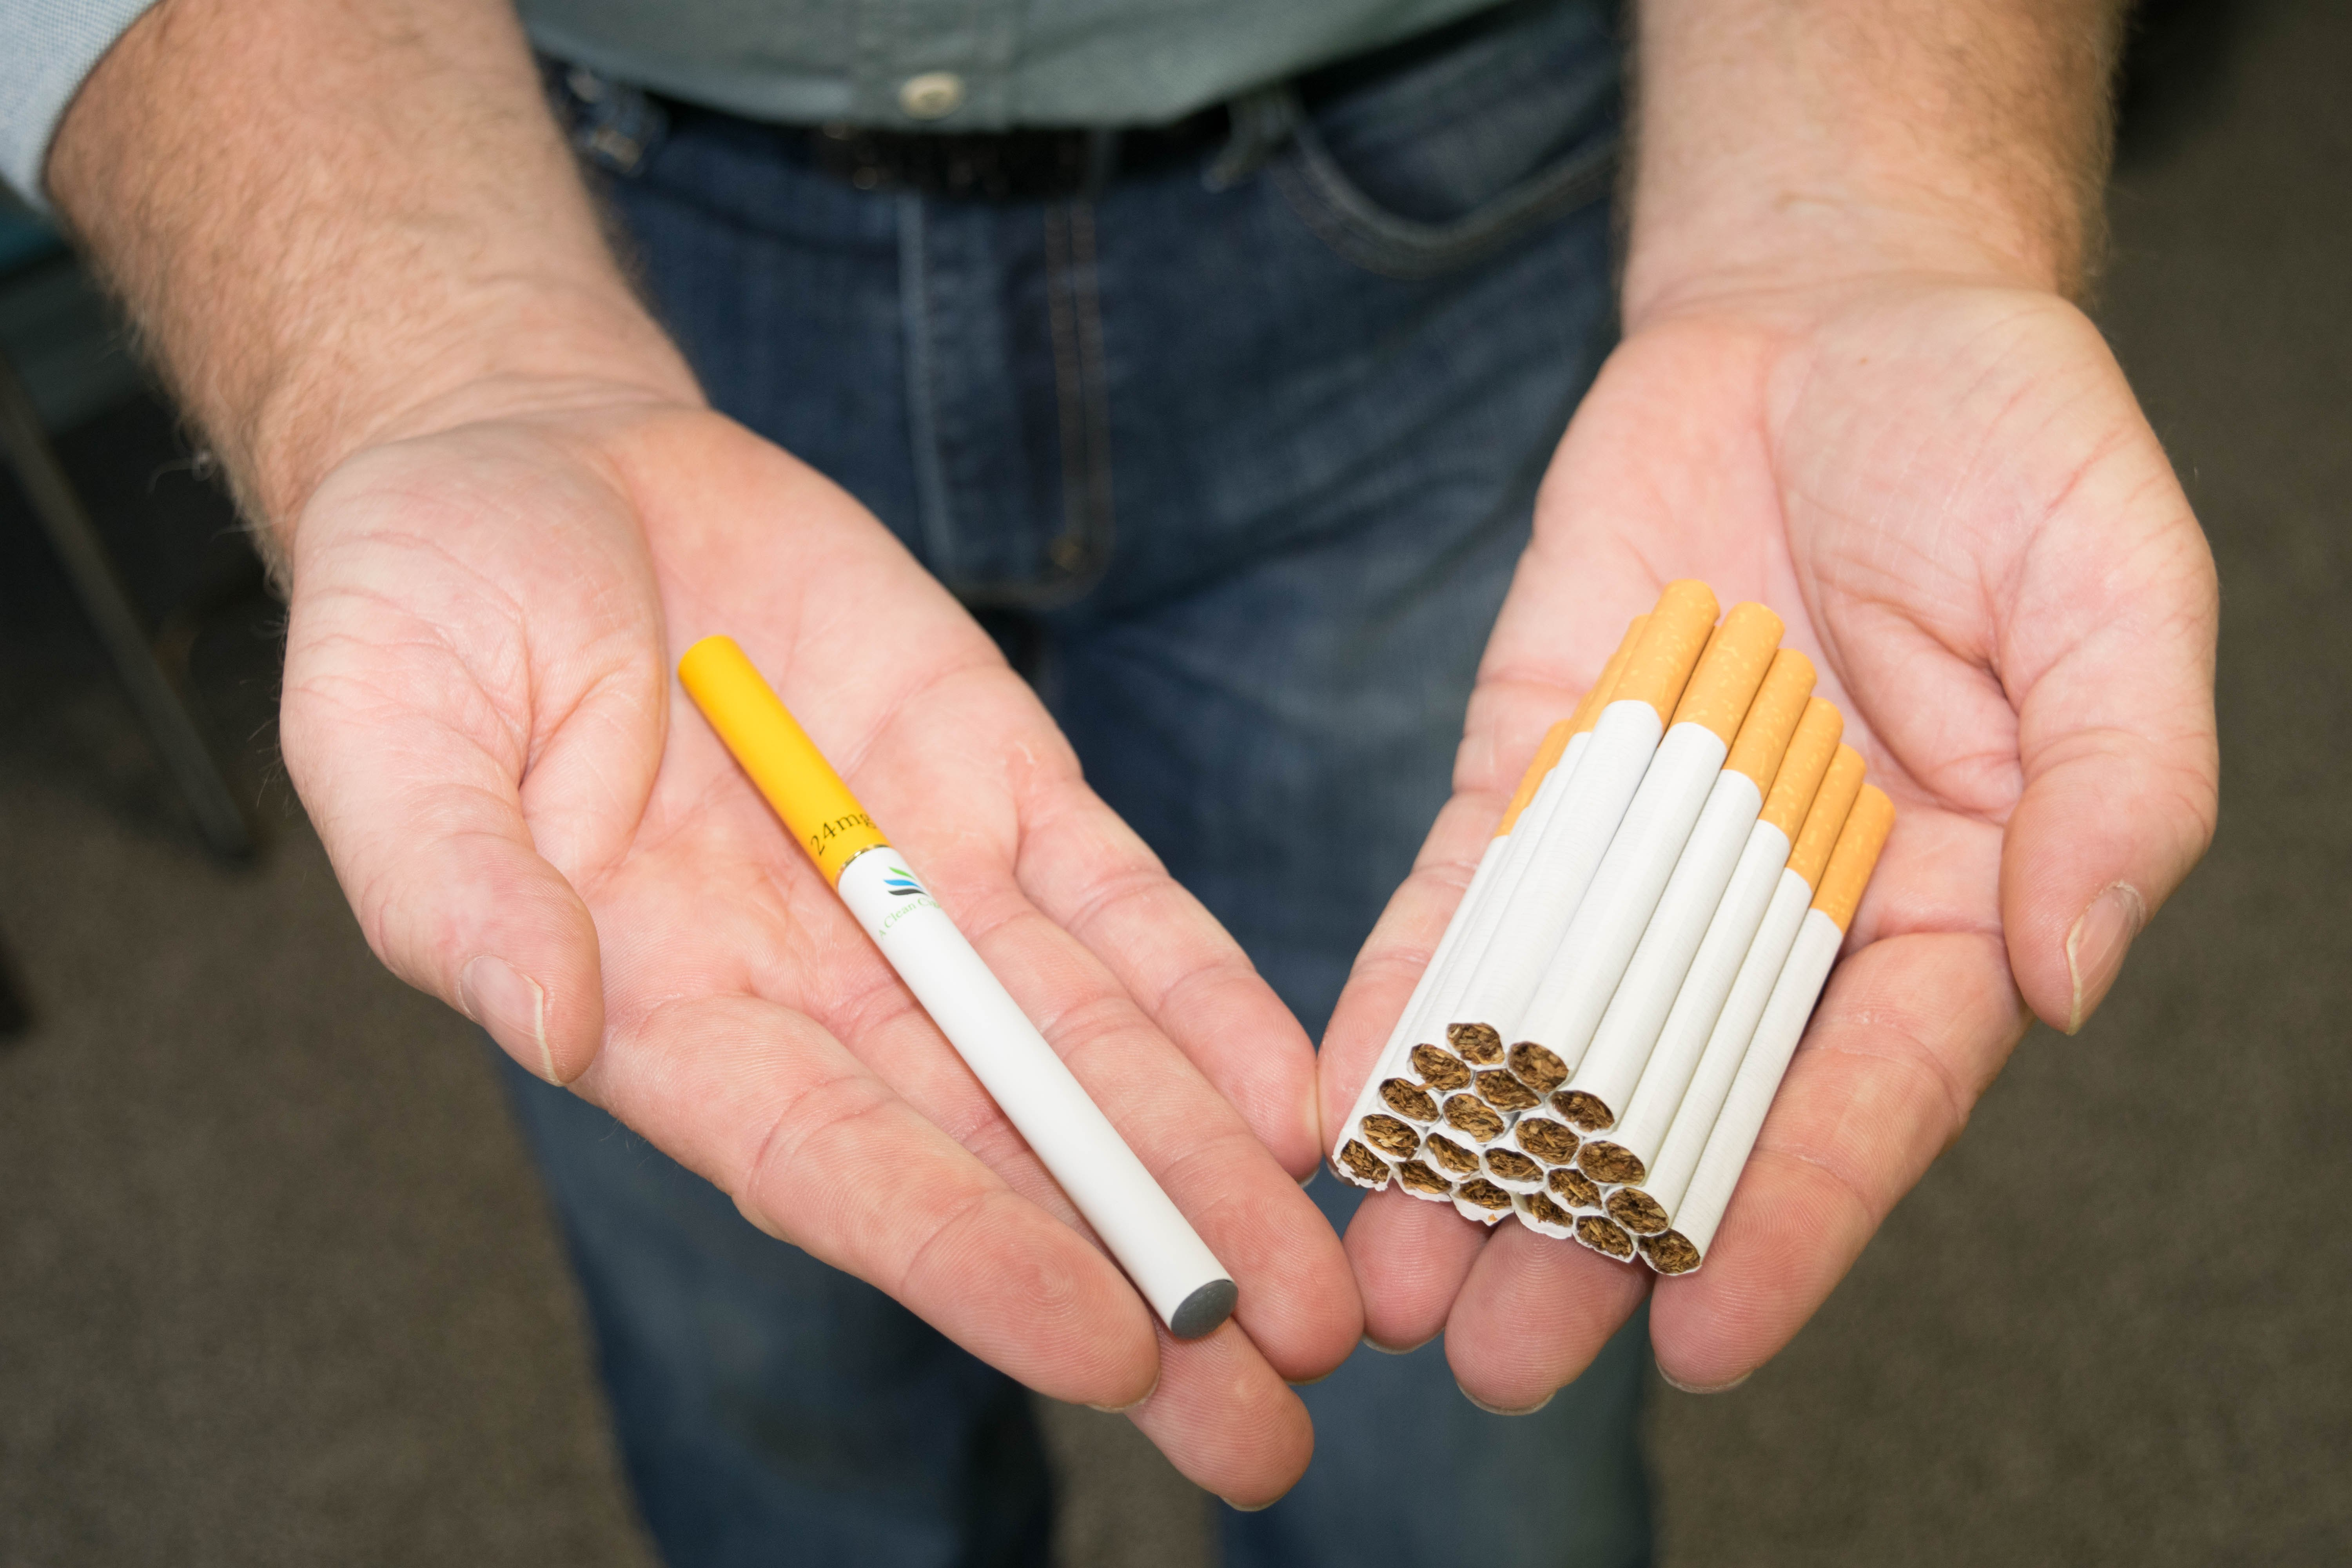cigarette: (621, 619, 1253, 1356)
